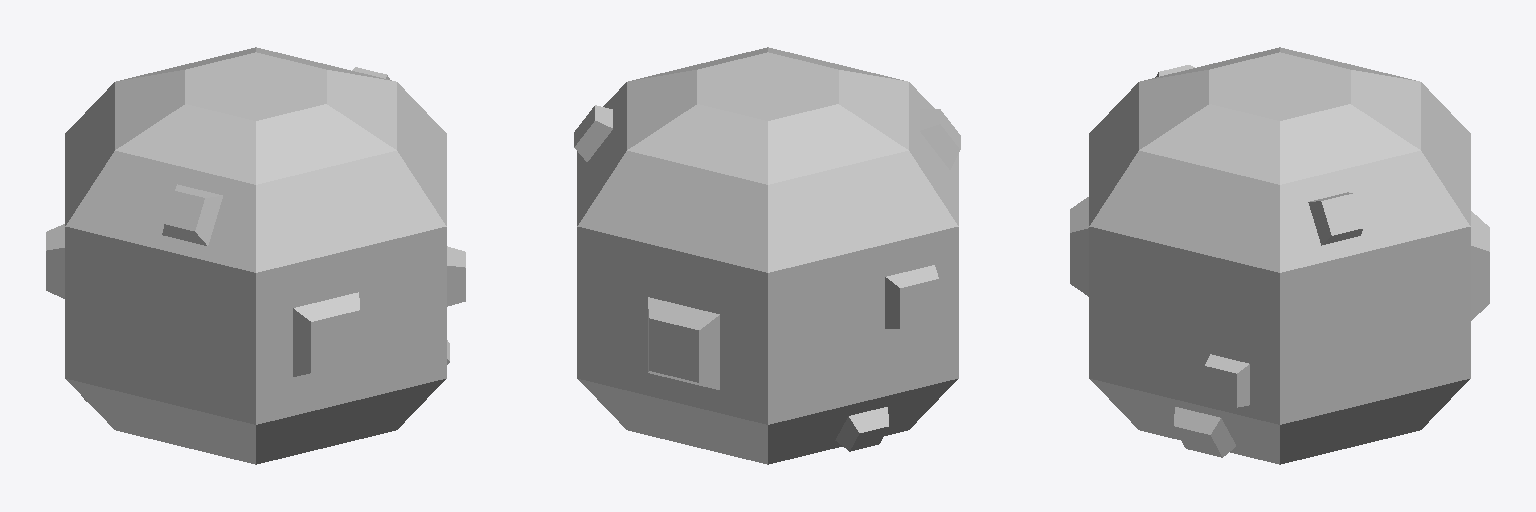
Rendered from meteorFull.obj.
3 renders of one model, left to right at view 1: azimuth 30°, elevation 25°; view 2: azimuth 150°, elevation 25°; view 3: azimuth 270°, elevation 25°, orthographic.
Parts seen in each view (by area): view 1: meteorFull; view 2: meteorFull; view 3: meteorFull.
Part boxes in pixels (left/top/right/bottom): meteorFull: left=46, top=47, right=465, bottom=464; meteorFull: left=574, top=47, right=960, bottom=464; meteorFull: left=1070, top=47, right=1489, bottom=464.
Bounding box in the file's own units: 11.55 × 9.8 × 11.